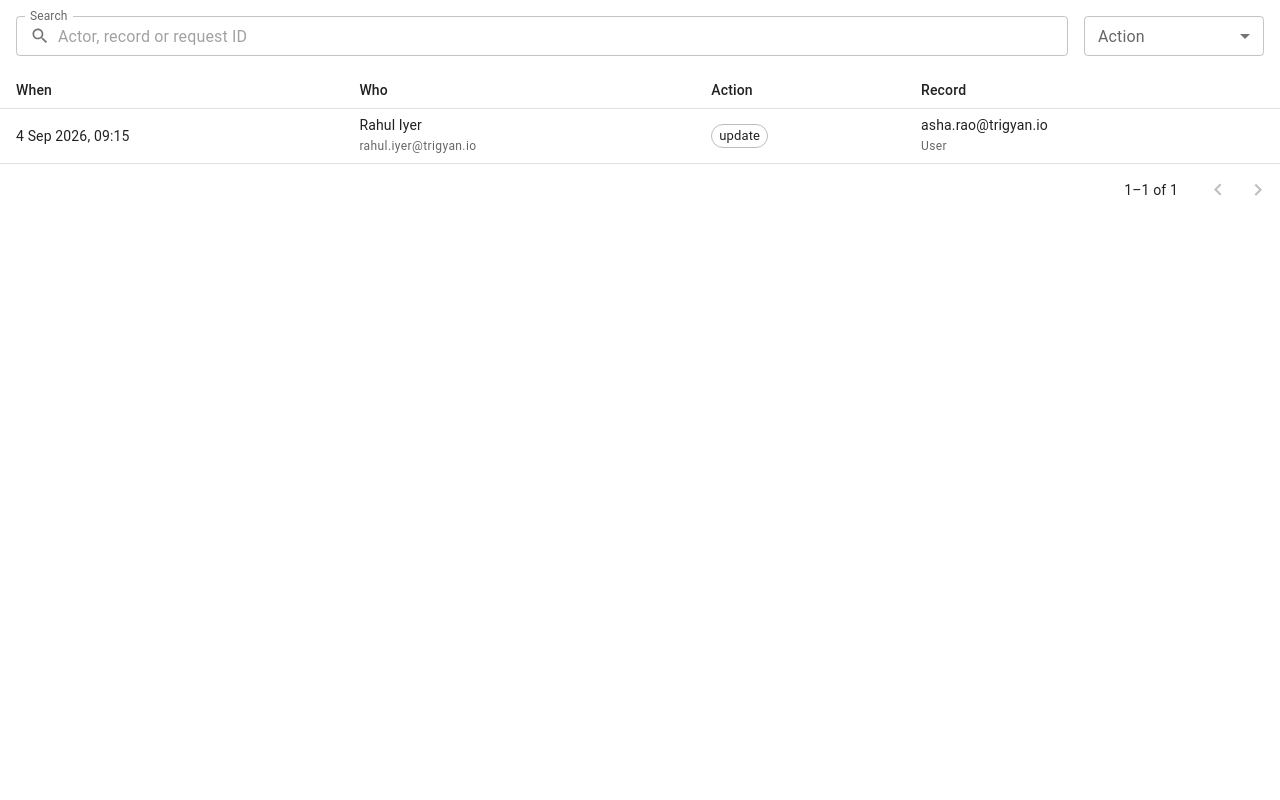
Test case: AuditLogTab › says so when an action changed no fields
Click the text "Rahul Iyer". click: (391,125)
box: x1=359 y1=117 x2=422 y2=133
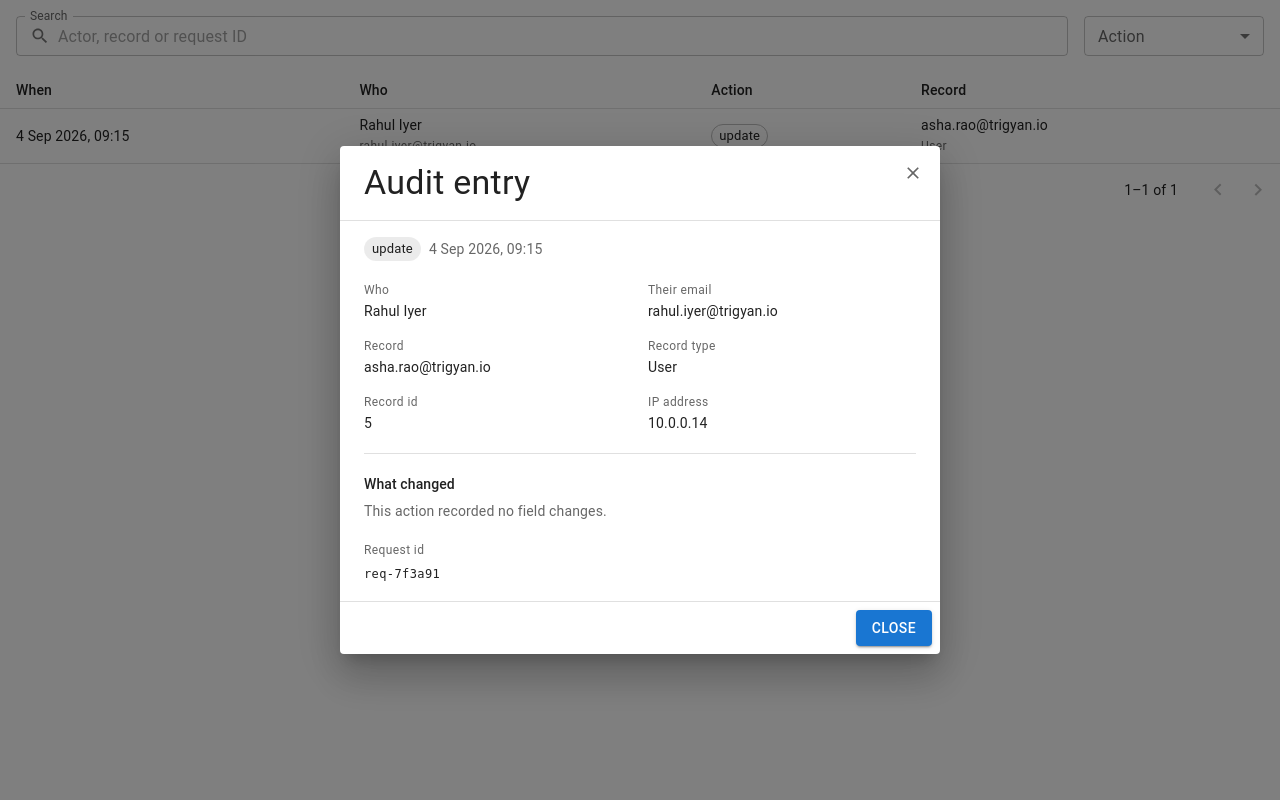
Expected: the text "This action recorded no field changes." is shown, x1=364 y1=503 x2=607 y2=519
